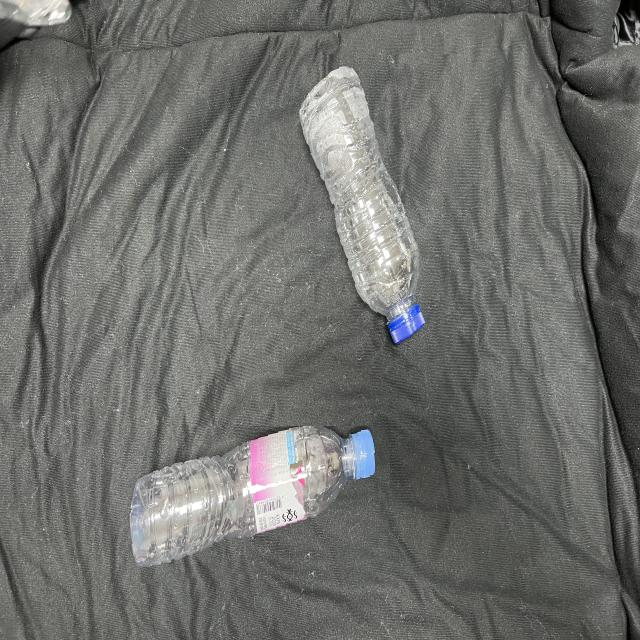plastic bottle: (284, 54, 447, 368), (128, 426, 389, 584)
